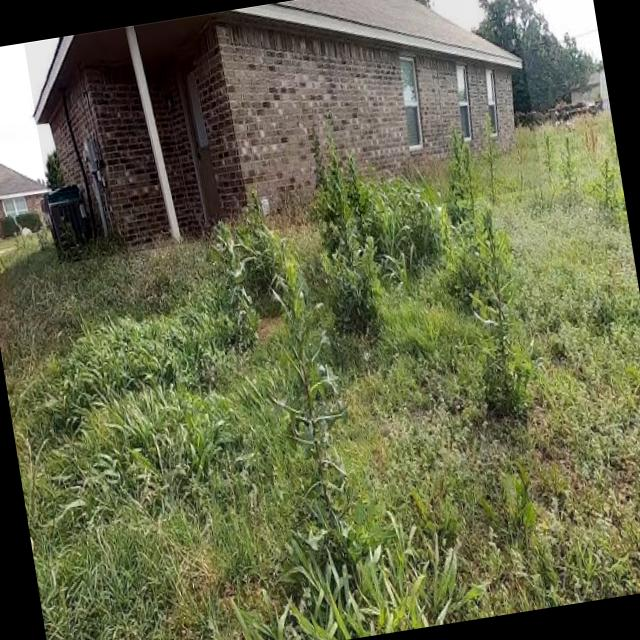House: (24, 0, 544, 264), (0, 139, 53, 240)
